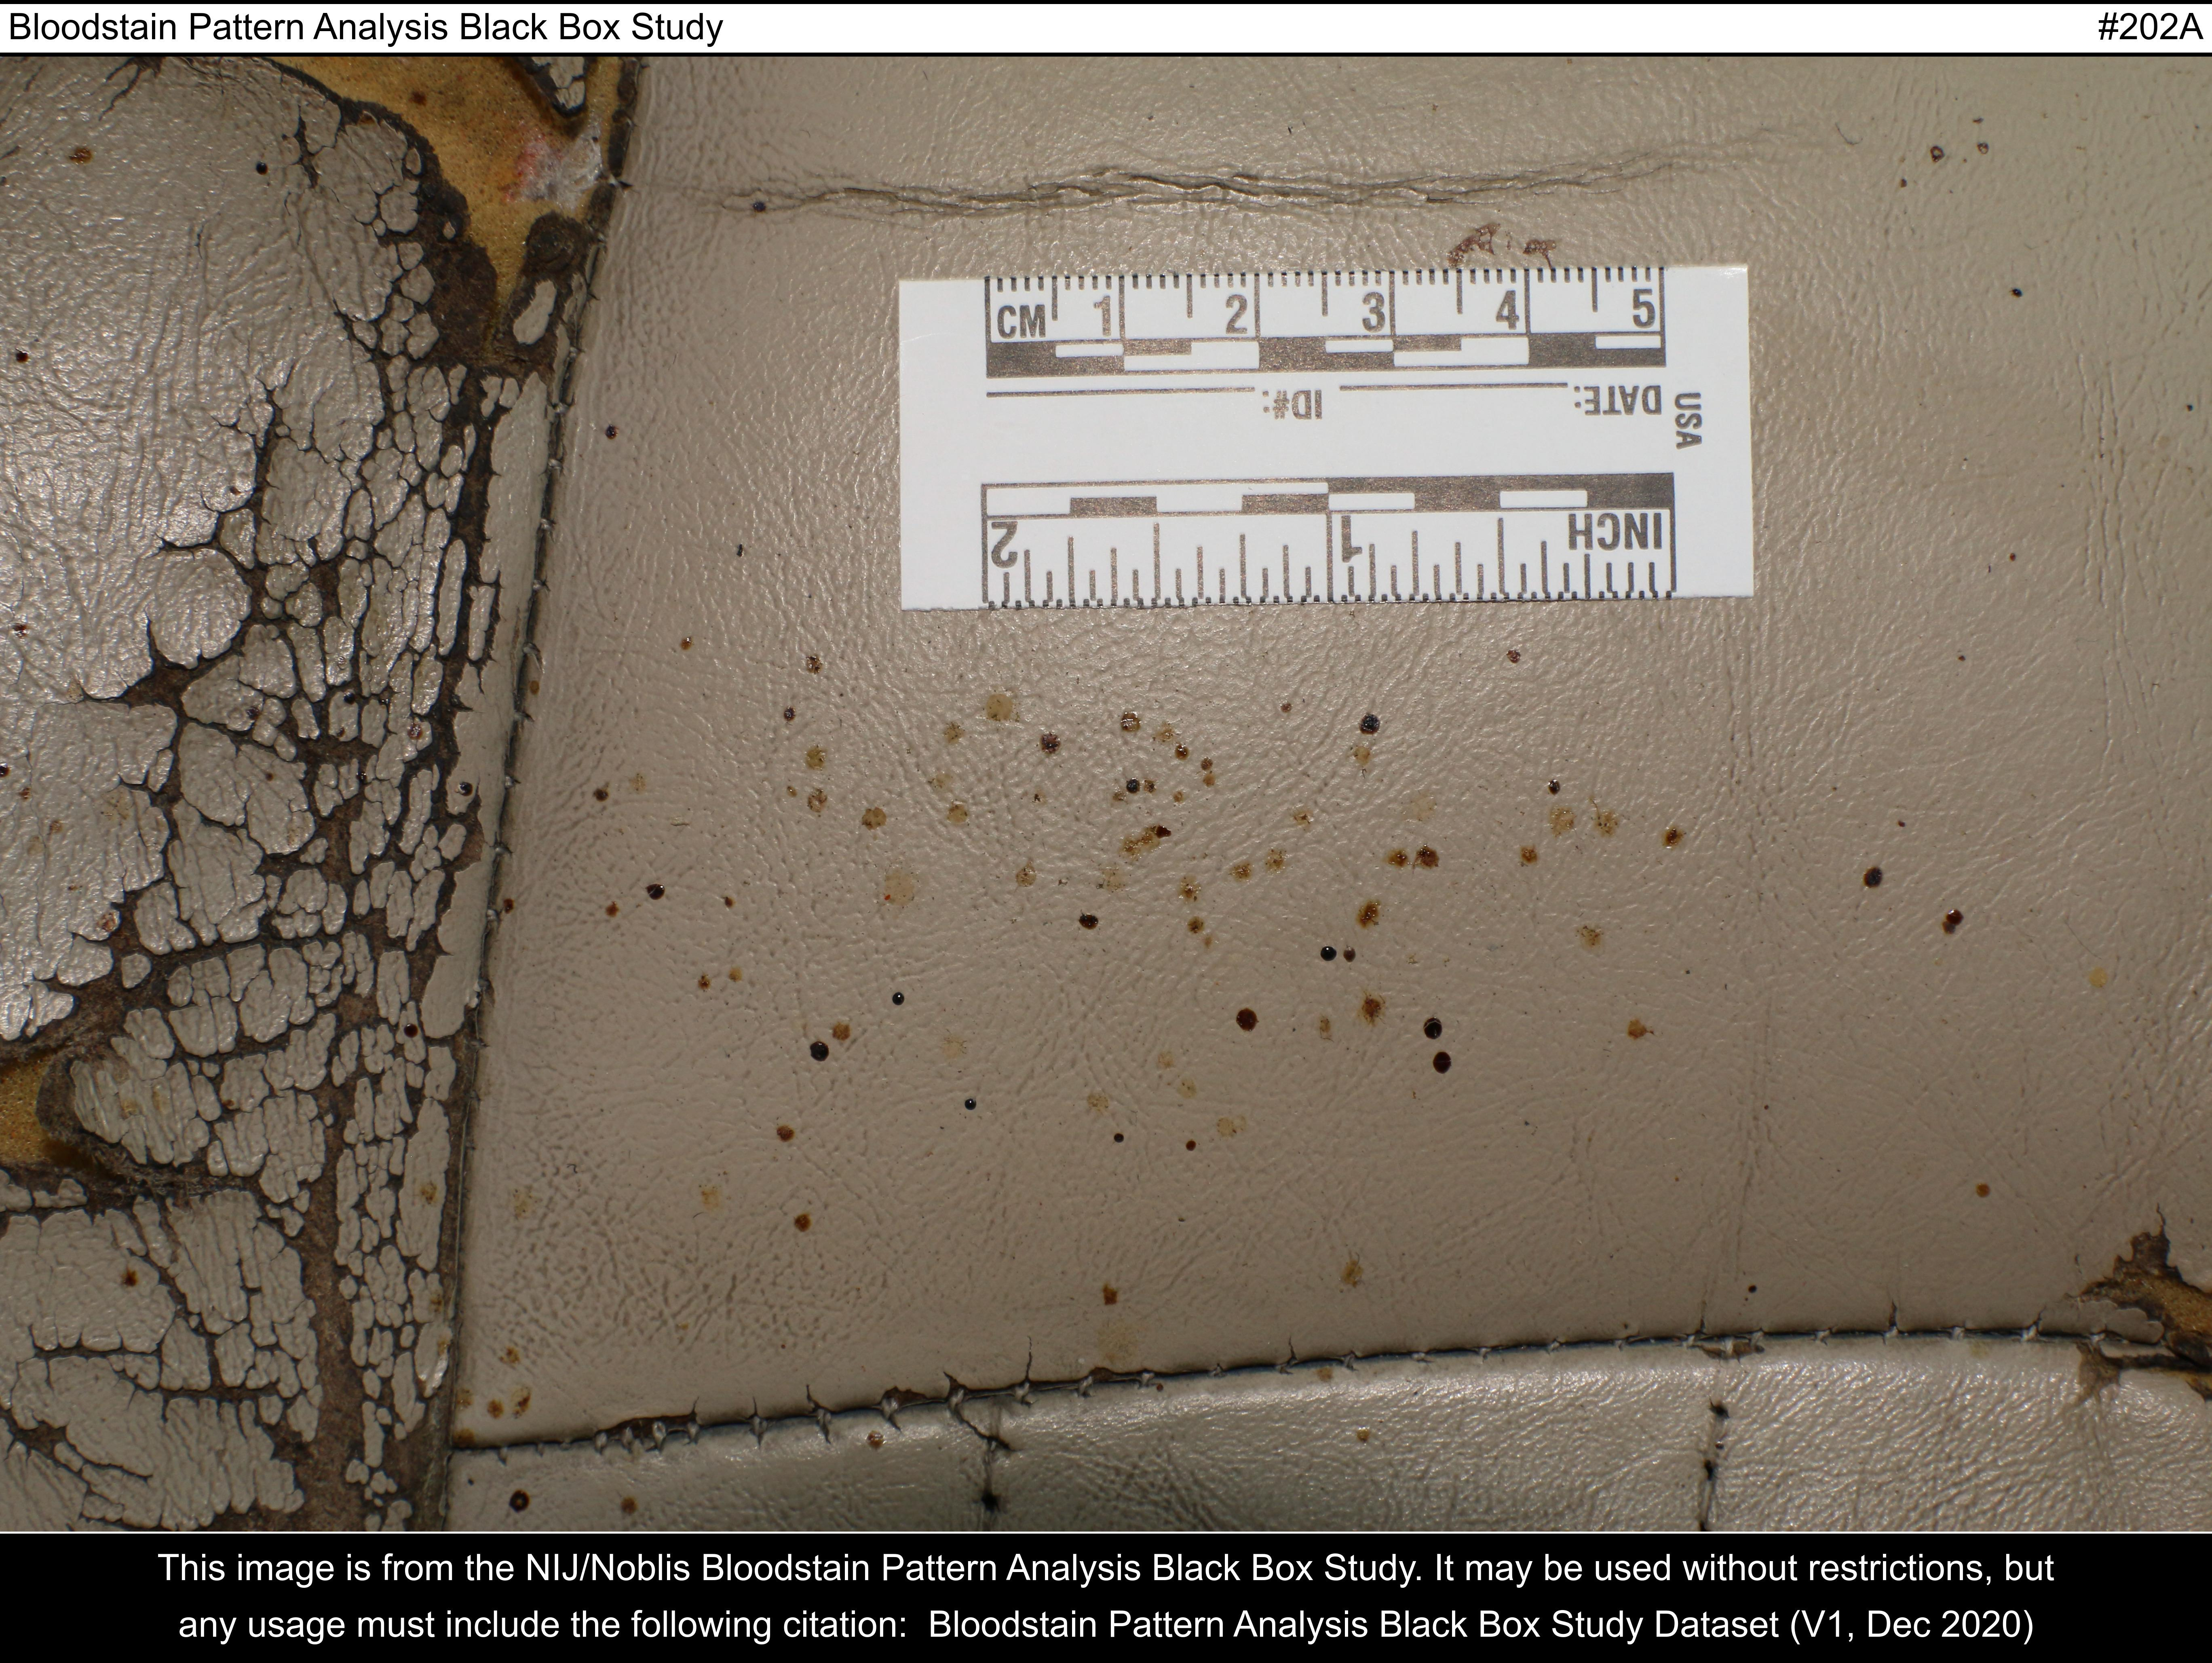Transfer: (798, 648, 1521, 1076)
